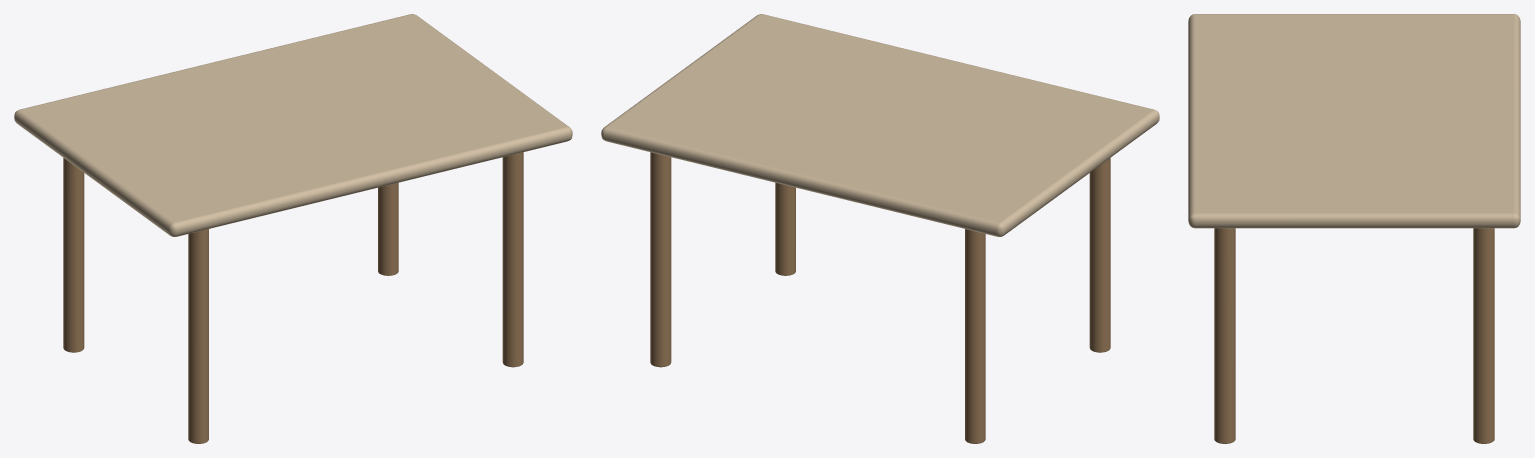
3 renders of one model, left to right at view 1: azimuth 30°, elevation 25°; view 2: azimuth 150°, elevation 25°; view 3: azimuth 270°, elevation 25°, orthographic. The views are drawn at different scales.
Visible parts, largest first — view 1: tabletop, leg_1_1, leg_-1_1, leg_-1_-1, leg_1_-1; view 2: tabletop, leg_1_-1, leg_-1_-1, leg_-1_1, leg_1_1; view 3: tabletop, leg_1_-1, leg_1_1.
Boxes of the visible parts, left/top/right/bottom form: tabletop: left=14, top=14, right=572, bottom=236; leg_1_1: left=502, top=152, right=523, bottom=367; leg_-1_1: left=188, top=229, right=208, bottom=443; leg_-1_-1: left=63, top=158, right=84, bottom=352; leg_1_-1: left=378, top=182, right=398, bottom=275; tabletop: left=601, top=14, right=1159, bottom=236; leg_1_-1: left=650, top=152, right=671, bottom=367; leg_-1_-1: left=965, top=229, right=985, bottom=443; leg_-1_1: left=1089, top=158, right=1110, bottom=352; leg_1_1: left=775, top=182, right=795, bottom=275; tabletop: left=1188, top=14, right=1520, bottom=228; leg_1_-1: left=1473, top=228, right=1494, bottom=443; leg_1_1: left=1214, top=228, right=1235, bottom=443.
Size of the model in its own units: 0.8 by 0.45 by 0.55.
